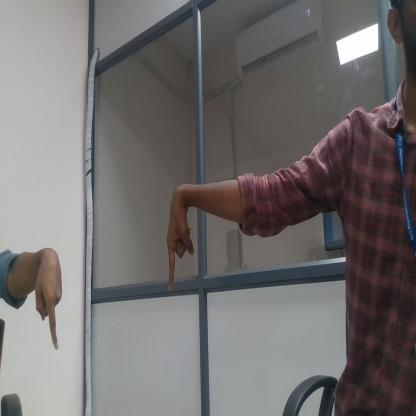Down: (29, 256, 74, 357), (164, 190, 197, 294)
